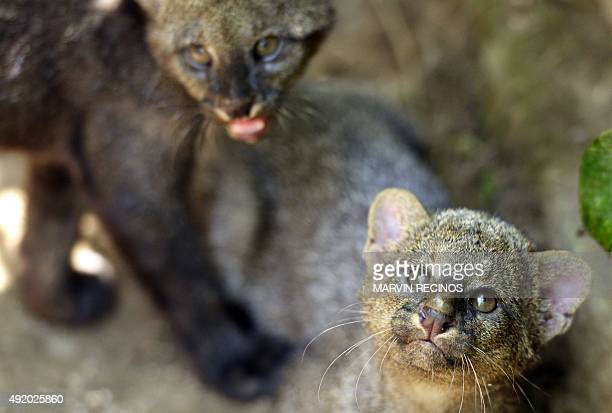Jaguarundi: (12, 1, 321, 382), (346, 177, 589, 391)
